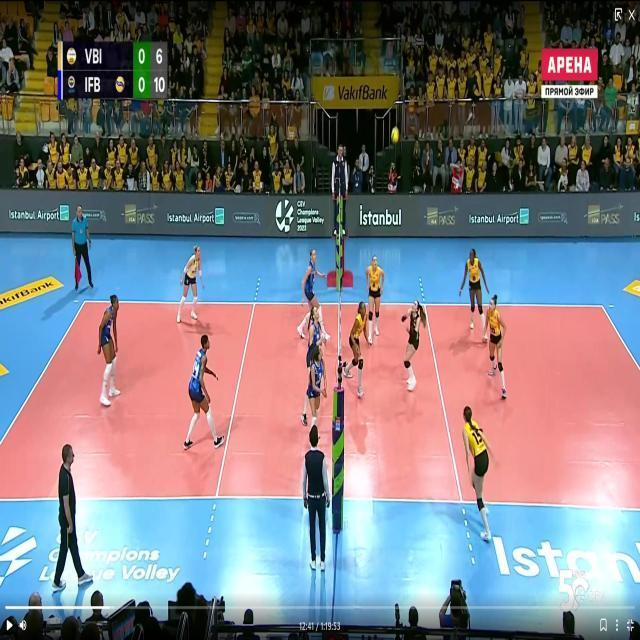volleyball: (392, 128, 398, 142)
